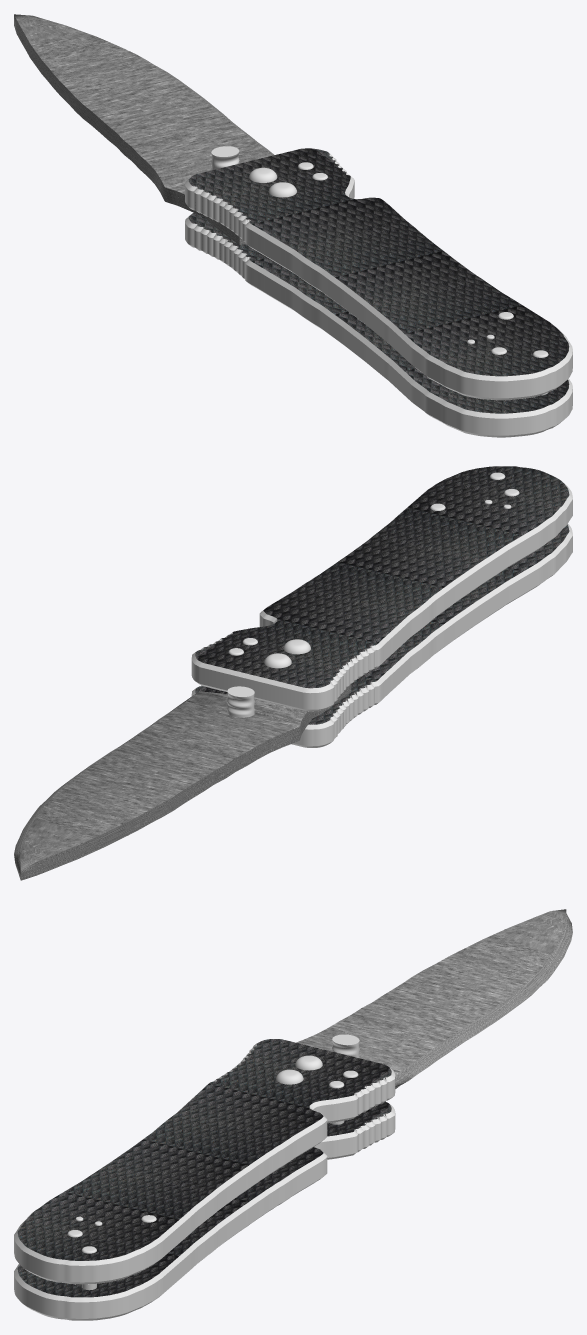
File: knife.fbx
The picture shows the model from 3 angles, top to bottom: view 1: azimuth 30°, elevation 25°; view 2: azimuth 150°, elevation 25°; view 3: azimuth 330°, elevation 25°; orthographic projection. The views are drawn at different scales.
Parts seen in each view (by area): view 1: Deckfläche_1_2, Blade, Griff_Logo_seite, Griff_Clip_seite, Deckfläche_1, Rundung_1_2, Rundung_1, Blade_niete; view 2: Deckfläche_1_2, Blade, Griff_Logo_seite, Griff_Clip_seite, Deckfläche_1, Rundung_1_2, Rundung_1, Blade_niete; view 3: Deckfläche_1_2, Blade, Griff_Logo_seite, Griff_Clip_seite, Deckfläche_1, Rundung_1_2, Rundung_1, Blade_niete.
Part boxes in pixels (left/top/right/bottom): Deckfläche_1_2: left=188, top=148, right=569, bottom=376; Blade: left=14, top=14, right=274, bottom=244; Griff_Logo_seite: left=185, top=164, right=572, bottom=398; Griff_Clip_seite: left=185, top=223, right=572, bottom=435; Deckfläche_1: left=188, top=212, right=569, bottom=413; Rundung_1_2: left=185, top=152, right=572, bottom=381; Rundung_1: left=185, top=215, right=572, bottom=418; Blade_niete: left=211, top=146, right=239, bottom=170; Deckfläche_1_2: left=195, top=466, right=569, bottom=688; Blade: left=14, top=684, right=351, bottom=880; Griff_Logo_seite: left=191, top=499, right=572, bottom=709; Griff_Clip_seite: left=294, top=536, right=572, bottom=746; Deckfläche_1: left=195, top=524, right=569, bottom=724; Rundung_1_2: left=191, top=482, right=572, bottom=693; Rundung_1: left=191, top=524, right=572, bottom=729; Blade_niete: left=227, top=686, right=254, bottom=717; Deckfläche_1_2: left=17, top=1039, right=391, bottom=1260; Blade: left=296, top=909, right=572, bottom=1088; Griff_Logo_seite: left=14, top=1051, right=395, bottom=1282; Griff_Clip_seite: left=14, top=1113, right=395, bottom=1318; Deckfläche_1: left=17, top=1101, right=391, bottom=1297; Rundung_1_2: left=14, top=1044, right=395, bottom=1265; Rundung_1: left=14, top=1104, right=395, bottom=1302; Blade_niete: left=332, top=1034, right=359, bottom=1058.
Bounding box in the file's own units: 220 × 123 × 1401.
Materials: 2 (2 with a texture image).
